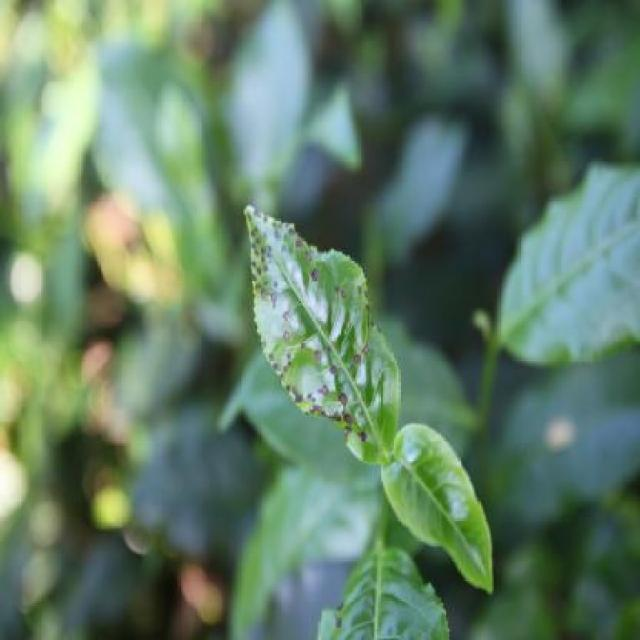Tea Mosquito bug infested leaf: (239, 197, 406, 517)
